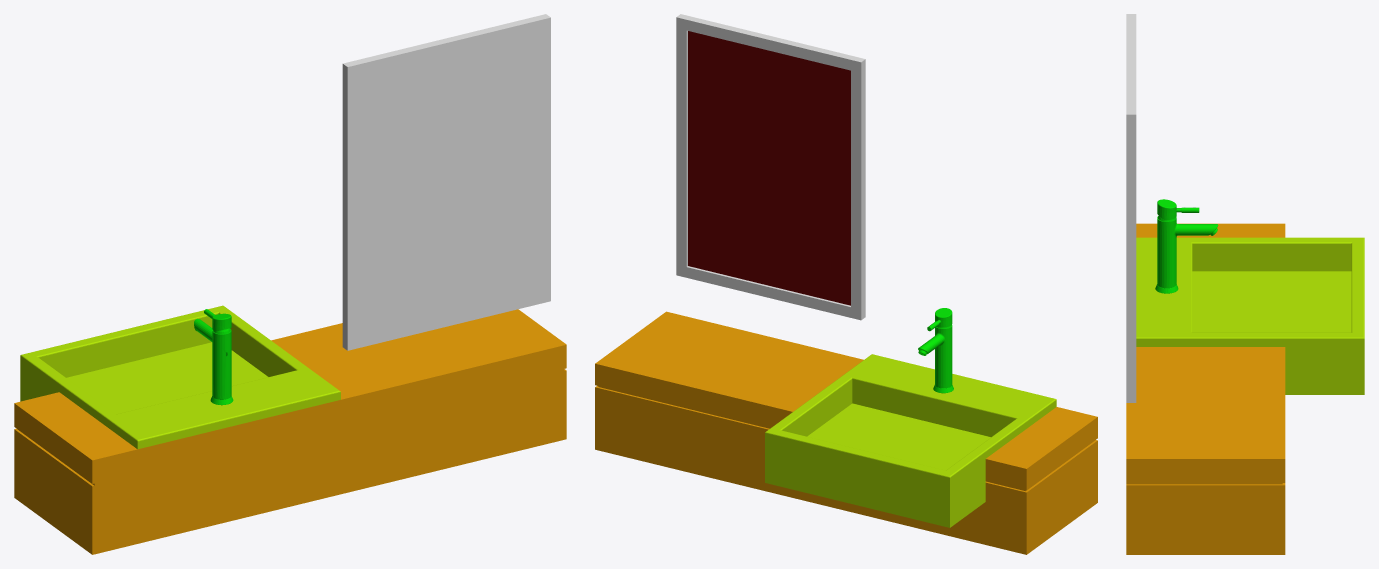
The model's file is OM_1BHK_Bathroom_Washbasin_01.fbx.
The picture shows the model from 3 angles, left to right: view 1: azimuth 30°, elevation 25°; view 2: azimuth 150°, elevation 25°; view 3: azimuth 270°, elevation 25°; orthographic projection. The views are drawn at different scales.
Parts seen in each view (by area): view 1: OM_1BHK_Bathroom_Washbasin_01_Wood, OM_1BHK_Bathroom_Washbasin_01_Mirror, OM_1BHK_Bathroom_Washbasin_01_Basin, OM_1BHK_Bathroom_Washbasin_01_Tap; view 2: OM_1BHK_Bathroom_Washbasin_01_Mirror, OM_1BHK_Bathroom_Washbasin_01_Wood, OM_1BHK_Bathroom_Washbasin_01_Basin, OM_1BHK_Bathroom_Washbasin_01_Tap; view 3: OM_1BHK_Bathroom_Washbasin_01_Wood, OM_1BHK_Bathroom_Washbasin_01_Basin, OM_1BHK_Bathroom_Washbasin_01_Mirror, OM_1BHK_Bathroom_Washbasin_01_Tap.
Boxes of the visible parts, bbox=[...] form: OM_1BHK_Bathroom_Washbasin_01_Wood: bbox=[14, 309, 566, 554]; OM_1BHK_Bathroom_Washbasin_01_Mirror: bbox=[342, 14, 550, 350]; OM_1BHK_Bathroom_Washbasin_01_Basin: bbox=[20, 305, 340, 449]; OM_1BHK_Bathroom_Washbasin_01_Tap: bbox=[194, 309, 233, 405]; OM_1BHK_Bathroom_Washbasin_01_Mirror: bbox=[676, 14, 865, 320]; OM_1BHK_Bathroom_Washbasin_01_Wood: bbox=[595, 311, 1097, 554]; OM_1BHK_Bathroom_Washbasin_01_Basin: bbox=[765, 354, 1056, 527]; OM_1BHK_Bathroom_Washbasin_01_Tap: bbox=[918, 308, 953, 393]; OM_1BHK_Bathroom_Washbasin_01_Wood: bbox=[1126, 223, 1285, 554]; OM_1BHK_Bathroom_Washbasin_01_Basin: bbox=[1136, 237, 1364, 394]; OM_1BHK_Bathroom_Washbasin_01_Mirror: bbox=[1126, 14, 1136, 402]; OM_1BHK_Bathroom_Washbasin_01_Tap: bbox=[1155, 199, 1218, 293].
Bounding box in the file's own units: 3.5 × 3 × 1.5.
